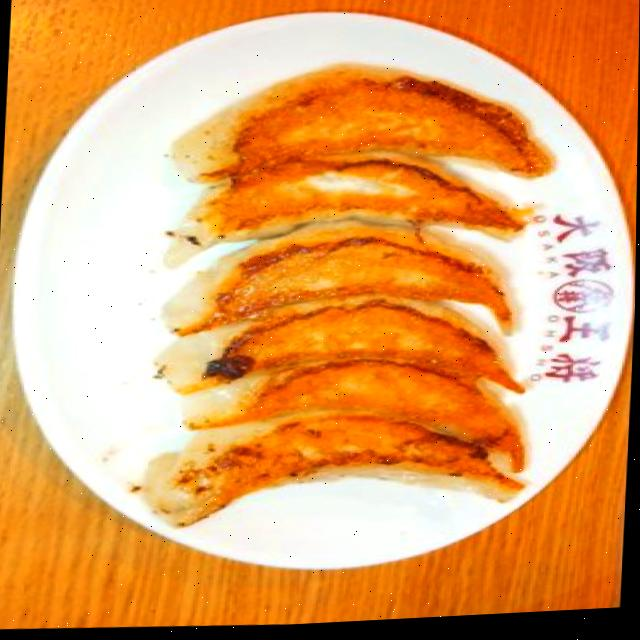带馅早点: (0, 0, 640, 604)
